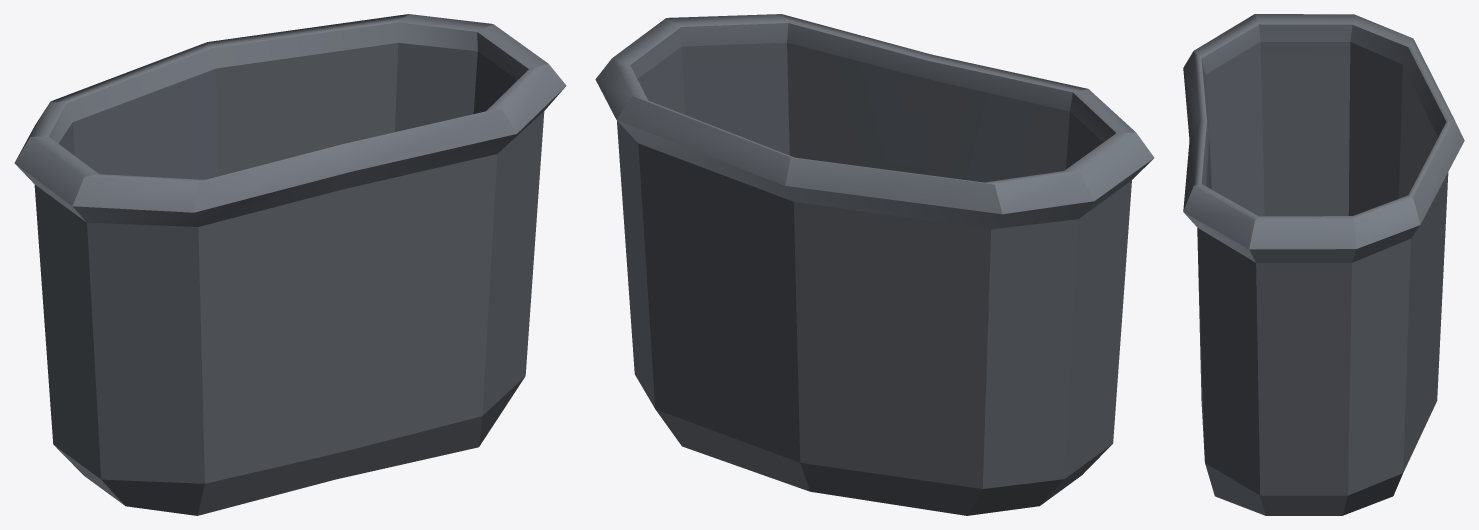
File: SM_Item_Canteen_Cup_01.fbx
The picture shows the model from 3 angles, left to right: view 1: azimuth 30°, elevation 25°; view 2: azimuth 150°, elevation 25°; view 3: azimuth 270°, elevation 25°; orthographic projection. The views are drawn at different scales.
Parts seen in each view (by area): view 1: SM_Item_Canteen_Cup_01; view 2: SM_Item_Canteen_Cup_01; view 3: SM_Item_Canteen_Cup_01.
Part boxes in pixels (bbox=[...]): SM_Item_Canteen_Cup_01: bbox=[14, 14, 566, 515]; SM_Item_Canteen_Cup_01: bbox=[595, 14, 1154, 515]; SM_Item_Canteen_Cup_01: bbox=[1183, 14, 1464, 515].
Size of the model in its own units: 18.07 by 12.07 by 9.75.
